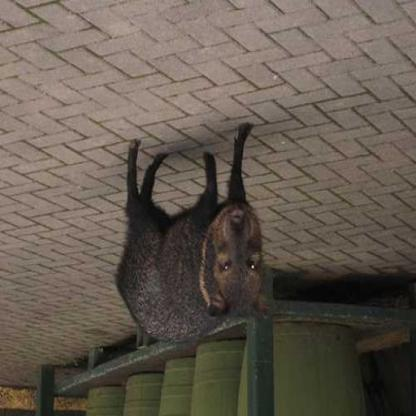boar: (90, 151, 303, 382)
